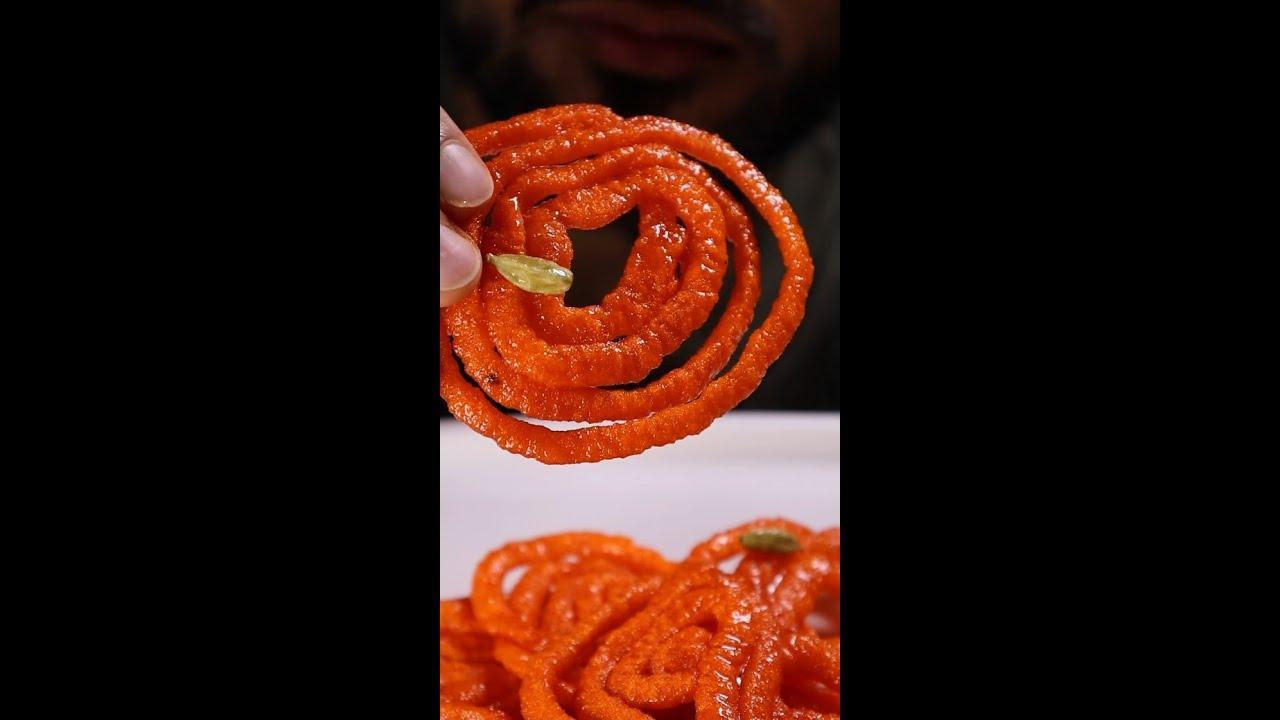jalebi: (438, 95, 800, 460), (442, 521, 880, 720)
